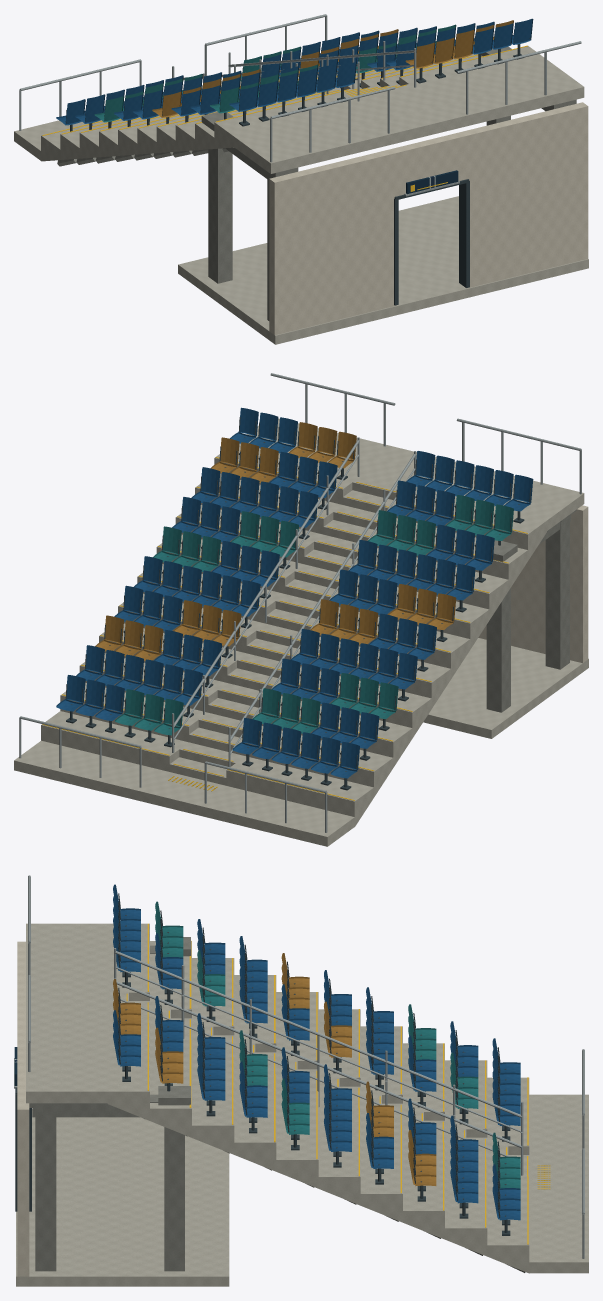
The picture shows the model from 3 angles, top to bottom: view 1: azimuth 30°, elevation 25°; view 2: azimuth 150°, elevation 25°; view 3: azimuth 270°, elevation 25°; orthographic projection. The views are drawn at different scales.
Parts seen in each view (by area): view 1: VIS_Rear_Concourse_Walls, VIS_Step_Concrete, VIS_Molded_Seats_seat_blue, VIS_Piers_and_Beams, VIS_Molded_Seats_seat_ochre, VIS_Molded_Seats_seat_teal, VIS_Door_Opening_Trim, VIS_Seat_Frames, VIS_Rear_Guardrails, VIS_Safety_Nosings, VIS_Railings, VIS_Front_Safety_Rail (+2 smaller); view 2: VIS_Step_Concrete, VIS_Molded_Seats_seat_blue, VIS_Molded_Seats_seat_teal, VIS_Molded_Seats_seat_ochre, VIS_Seat_Frames, VIS_Piers_and_Beams, VIS_Rear_Concourse_Walls, VIS_Railings, VIS_Safety_Nosings, VIS_Rear_Guardrails, VIS_Front_Safety_Rail; view 3: VIS_Step_Concrete, VIS_Molded_Seats_seat_blue, VIS_Piers_and_Beams, VIS_Seat_Frames, VIS_Molded_Seats_seat_teal, VIS_Railings, VIS_Molded_Seats_seat_ochre, VIS_Rear_Concourse_Walls, VIS_Safety_Nosings, VIS_Door_Opening_Trim, VIS_Front_Safety_Rail, VIS_Rear_Guardrails.
Part boxes in pixels (x1,y1,x2,y2): VIS_Rear_Concourse_Walls: (269,102,588,335); VIS_Step_Concrete: (14,46,588,344); VIS_Molded_Seats_seat_blue: (56,18,533,125); VIS_Piers_and_Beams: (201,46,576,320); VIS_Molded_Seats_seat_ochre: (152,20,513,117); VIS_Molded_Seats_seat_teal: (94,24,456,122); VIS_Door_Opening_Trim: (394,179,469,305); VIS_Seat_Frames: (65,29,530,131); VIS_Rear_Guardrails: (270,41,581,162); VIS_Safety_Nosings: (42,45,527,135); VIS_Railings: (172,41,416,101); VIS_Front_Safety_Rail: (19,14,327,130); VIS_Step_Concrete: (14,418,588,846); VIS_Molded_Seats_seat_blue: (56,407,533,778); VIS_Molded_Seats_seat_teal: (115,495,513,735); VIS_Molded_Seats_seat_ochre: (95,422,456,660); VIS_Seat_Frames: (65,417,530,790); VIS_Piers_and_Beams: (218,473,576,712); VIS_Rear_Concourse_Walls: (478,505,588,663); VIS_Railings: (172,437,416,766); VIS_Safety_Nosings: (42,457,527,800); VIS_Rear_Guardrails: (270,373,581,494); VIS_Front_Safety_Rail: (19,716,327,832); VIS_Step_Concrete: (16,923,588,1286); VIS_Molded_Seats_seat_blue: (113,884,520,1220); VIS_Piers_and_Beams: (29,937,190,1271); VIS_Seat_Frames: (118,893,510,1235); VIS_Molded_Seats_seat_teal: (155,901,520,1188); VIS_Railings: (114,948,523,1175); VIS_Molded_Seats_seat_ochre: (113,953,436,1186); VIS_Rear_Concourse_Walls: (17,941,29,1276); VIS_Safety_Nosings: (126,923,528,1244); VIS_Door_Opening_Trim: (15,1087,31,1211); VIS_Front_Safety_Rail: (582,1049,584,1258); VIS_Rear_Guardrails: (28,875,30,1071).
Size of the model in its own units: 8 by 5.44 by 11.59.
Materials: 10 (10 with a texture image).
